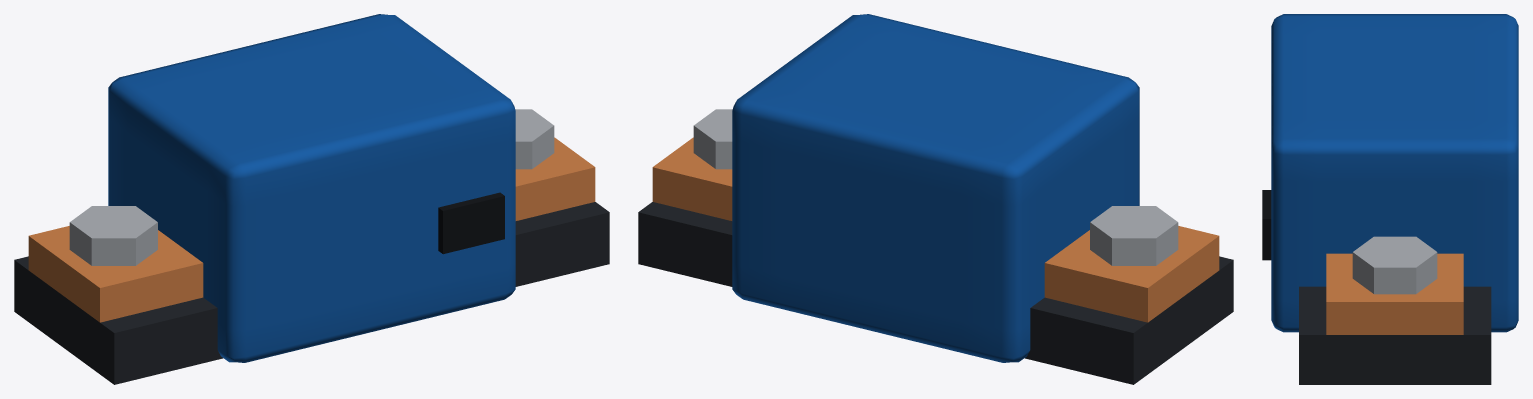
File: victron_smartshunt_500a.mid.glb
3 renders of one model, left to right at view 1: azimuth 30°, elevation 25°; view 2: azimuth 150°, elevation 25°; view 3: azimuth 270°, elevation 25°, orthographic. The views are drawn at different scales.
Parts seen in each view (by area): view 1: victron_smartshunt_500a; view 2: victron_smartshunt_500a; view 3: victron_smartshunt_500a.
Part boxes in pixels (bbox=[...]): victron_smartshunt_500a: bbox=[14, 14, 609, 384]; victron_smartshunt_500a: bbox=[638, 14, 1233, 384]; victron_smartshunt_500a: bbox=[1262, 14, 1518, 384].
Bounding box in the file's own units: 0.12 × 0.046 × 0.056.
